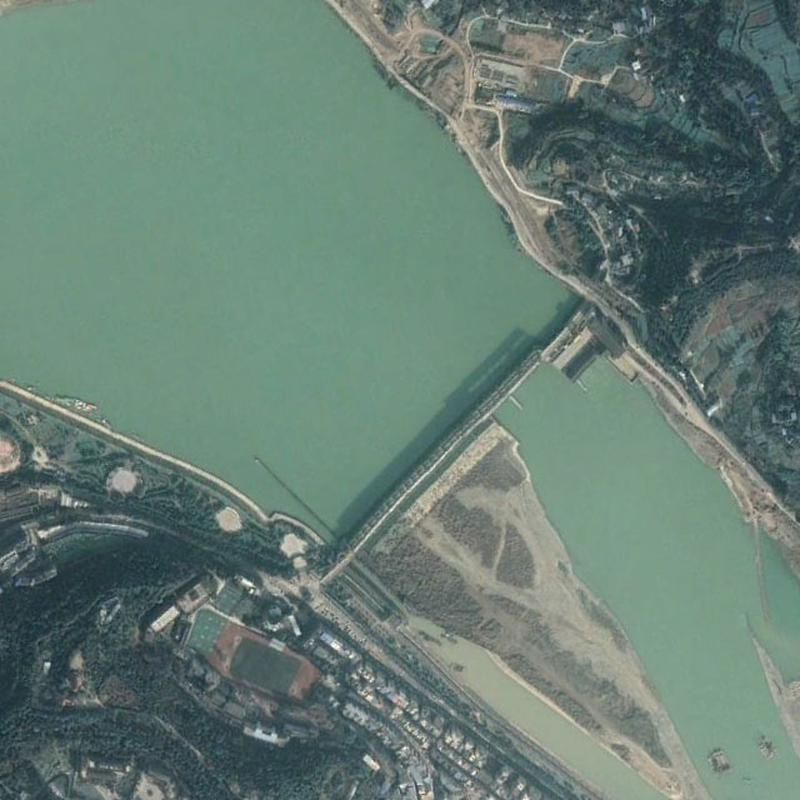dam: (321, 298, 636, 582)
